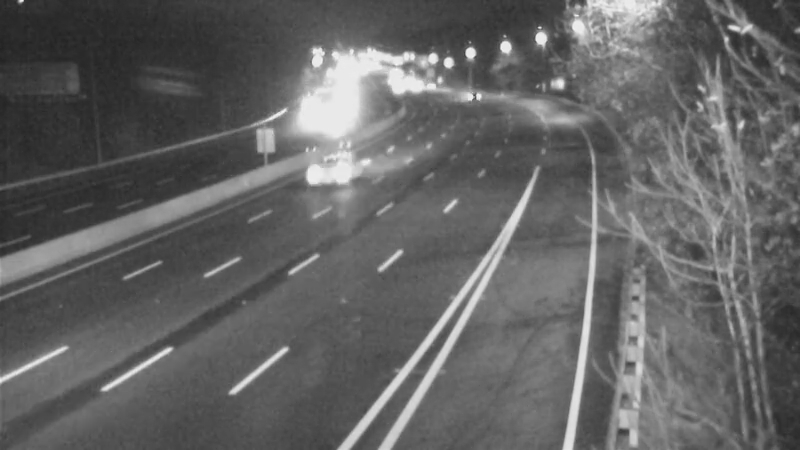vehicle: (294, 129, 374, 209), (443, 65, 493, 115)
